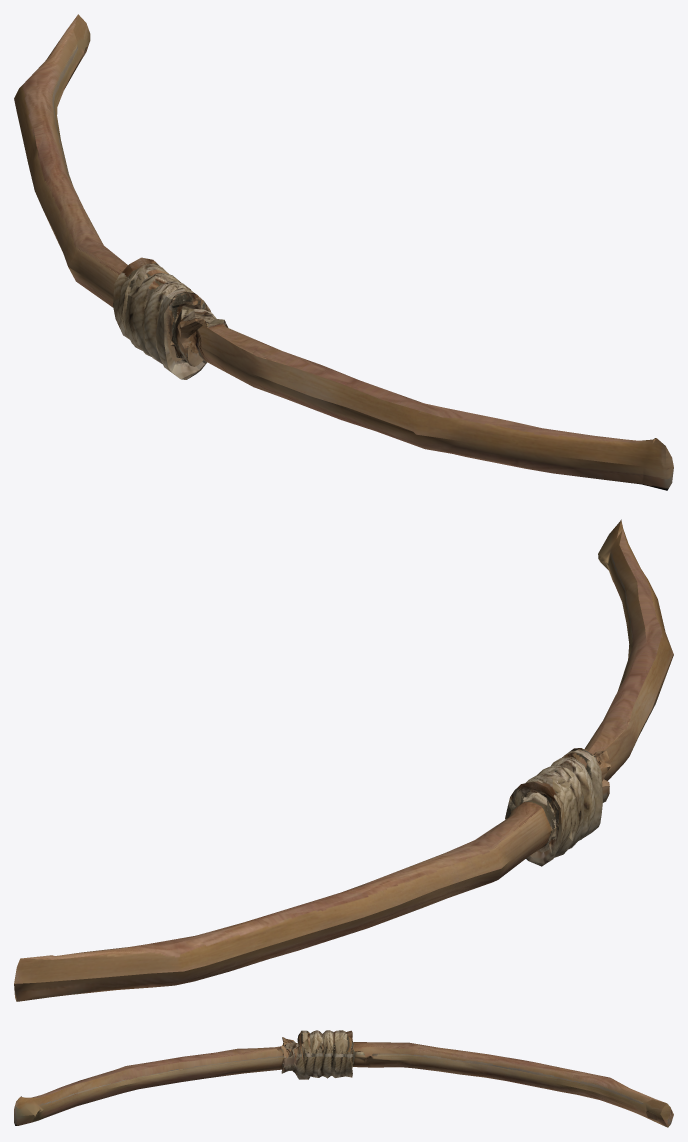
File: Bow.fbx
3 renders of one model, top to bottom at view 1: azimuth 30°, elevation 25°; view 2: azimuth 150°, elevation 25°; view 3: azimuth 270°, elevation 25°, orthographic. The views are drawn at different scales.
Visible parts, largest first — view 1: Bow; view 2: Bow; view 3: Bow.
Part boxes in pixels (bbox=[...]): Bow: bbox=[14, 14, 673, 490]; Bow: bbox=[14, 519, 673, 1001]; Bow: bbox=[14, 1030, 673, 1127].
Bounding box in the file's own units: 49.87 × 15.79 × 199.
Materials: 1 (1 with a texture image).
